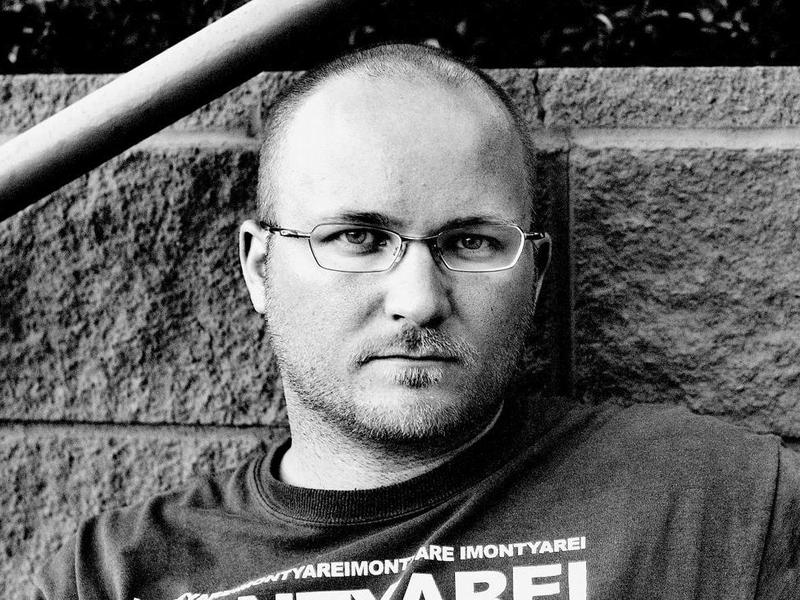person: (65, 43, 778, 599)
